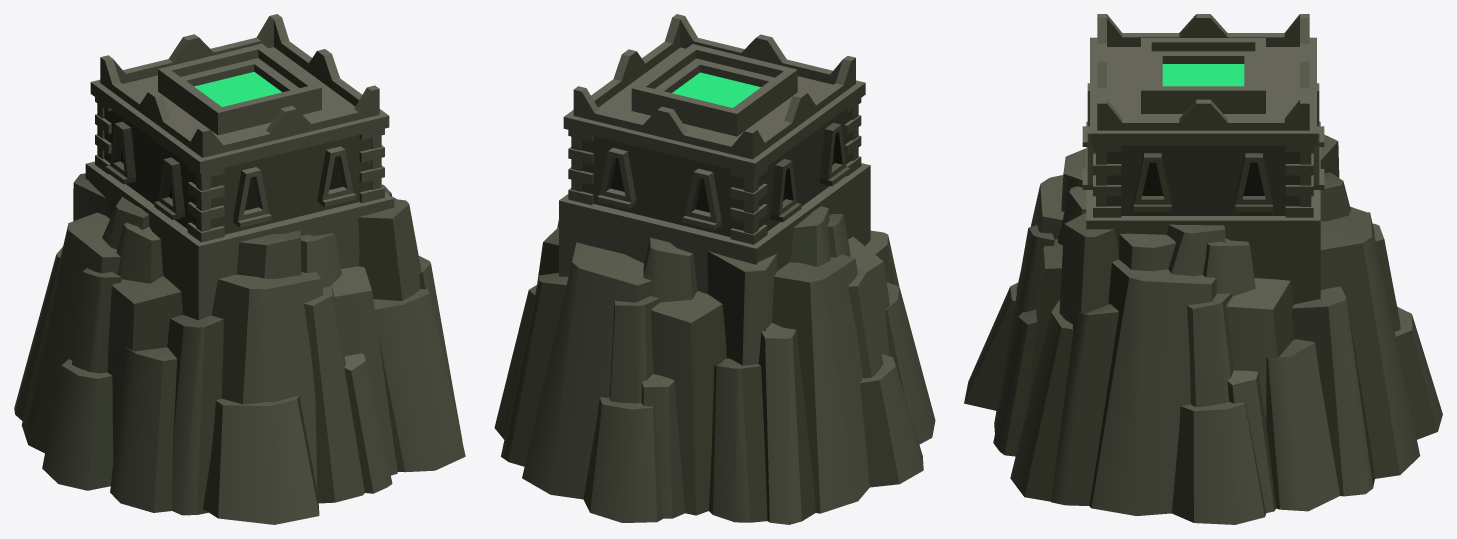
File: Model_Undead_3x3A.fbx
3 views of the same model, side by side, from view 1: azimuth 30°, elevation 25°; view 2: azimuth 150°, elevation 25°; view 3: azimuth 270°, elevation 25° (orthographic). The views are drawn at different scales.
Visible parts, largest first — view 1: Model_Frost_3x3A; view 2: Model_Frost_3x3A; view 3: Model_Frost_3x3A.
Boxes of the visible parts, x1,y1,x2,y2 form: Model_Frost_3x3A: (14,14,465,524); Model_Frost_3x3A: (494,14,935,524); Model_Frost_3x3A: (964,14,1442,524).
Size of the model in its own units: 537 by 468 by 553.
2 materials, 1 textured.
